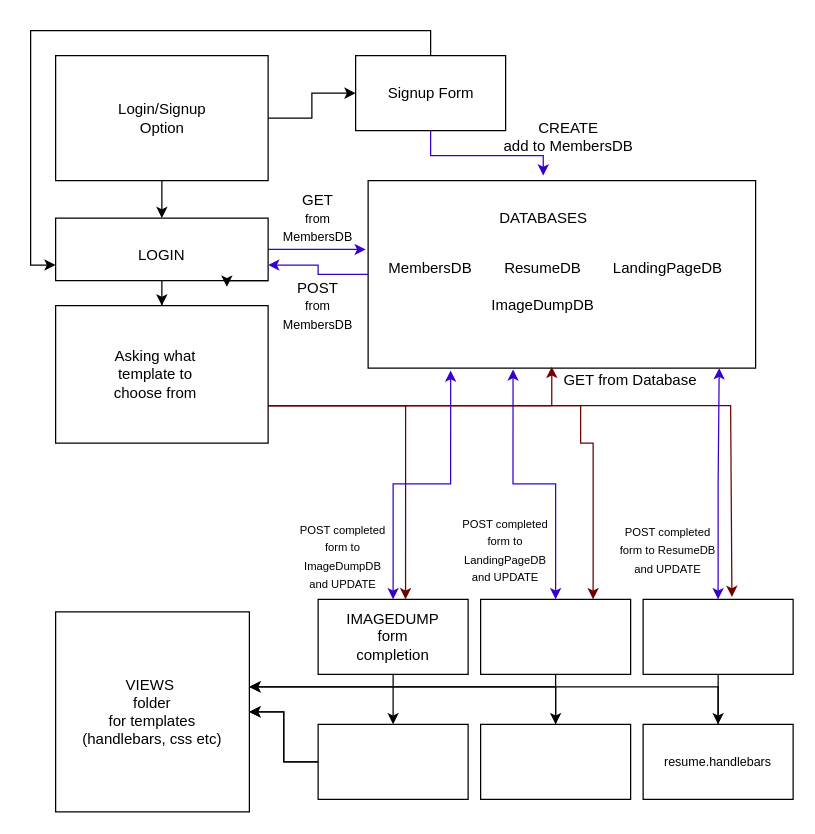
The diagram is 815 pixels wide and 834 high, and some of its shapes have lost their labels. Here are the shapes that lost their labels. From the top down, the centre of each, then its label:
[555,636]: LANDING PAGE form completion
[717,636]: RESUME form completion
[392,761]: imagedump.handlebars
[555,761]: landingpage.handlebars
